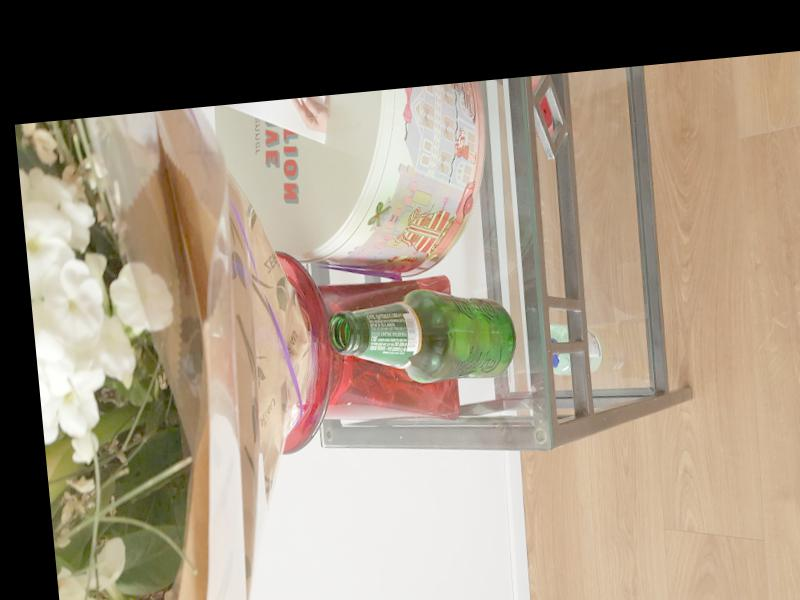Beer: (328, 280, 520, 392)
